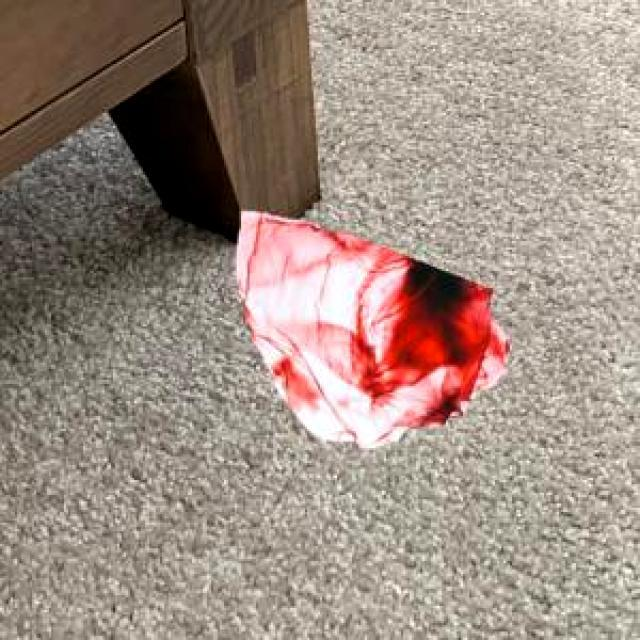Plastic_Bag: (233, 208, 504, 445)
